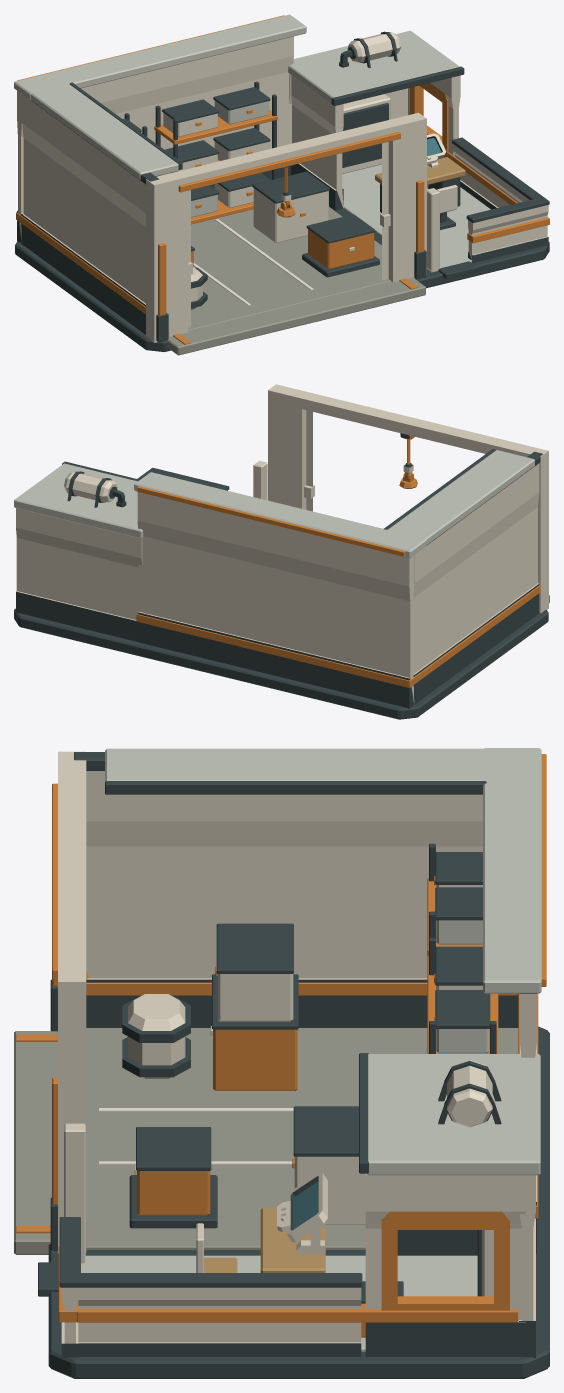
File: freihafen_hall_01.glb
The picture shows the model from 3 angles, top to bottom: view 1: azimuth 30°, elevation 25°; view 2: azimuth 150°, elevation 25°; view 3: azimuth 270°, elevation 25°; orthographic projection. The views are drawn at different scales.
Parts seen in each view (by area): view 1: freihafen_hall_01; view 2: freihafen_hall_01; view 3: freihafen_hall_01.
Part boxes in pixels (x1=…): freihafen_hall_01: x1=14, y1=14, x2=549, y2=355; freihafen_hall_01: x1=14, y1=384, x2=549, y2=719; freihafen_hall_01: x1=14, y1=748, x2=549, y2=1378.
Bounding box in the file's own units: 10.5 × 4.2 × 6.95.
